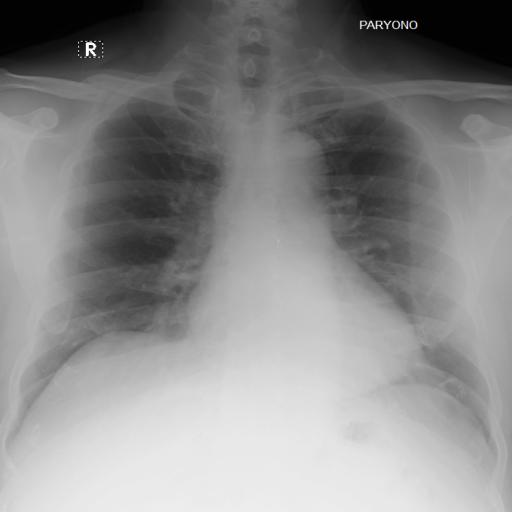kardiomegali: (4, 52, 500, 456)
